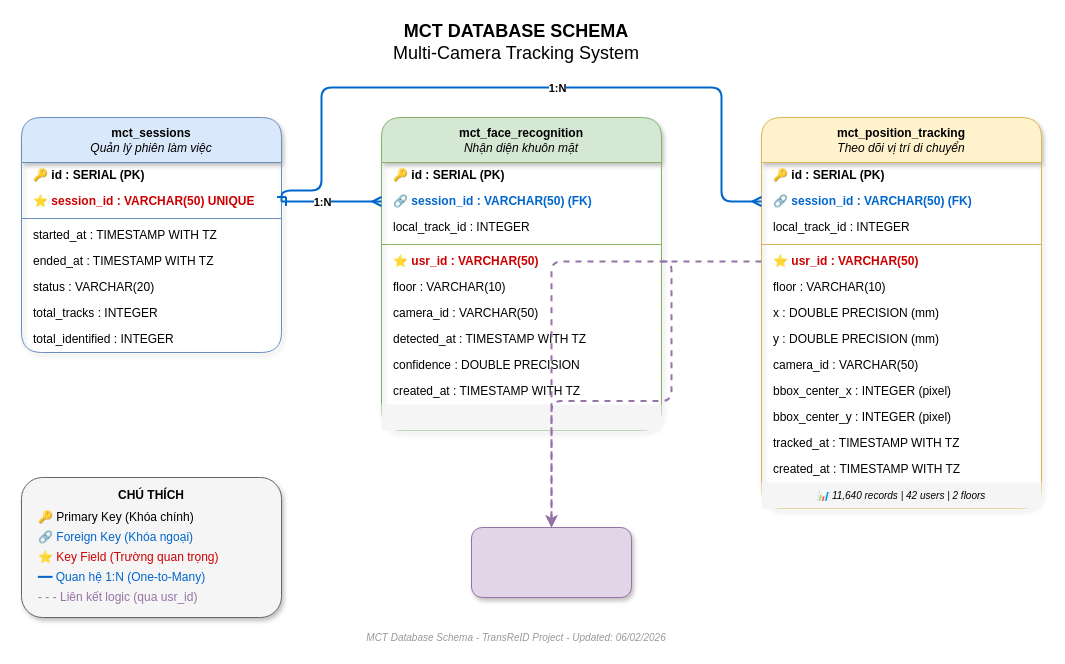
Image size: 1065x664. Some labels were removed from this diagram. The shapes that lost their labels are listed below. From the top down, each one's centre as x and y in pixels, then its label:
point 521,417: 📊 70 records | 39 users
point 552,563: 🔑 usr_id Mã nhân viên (Khóa liên kết chính)
